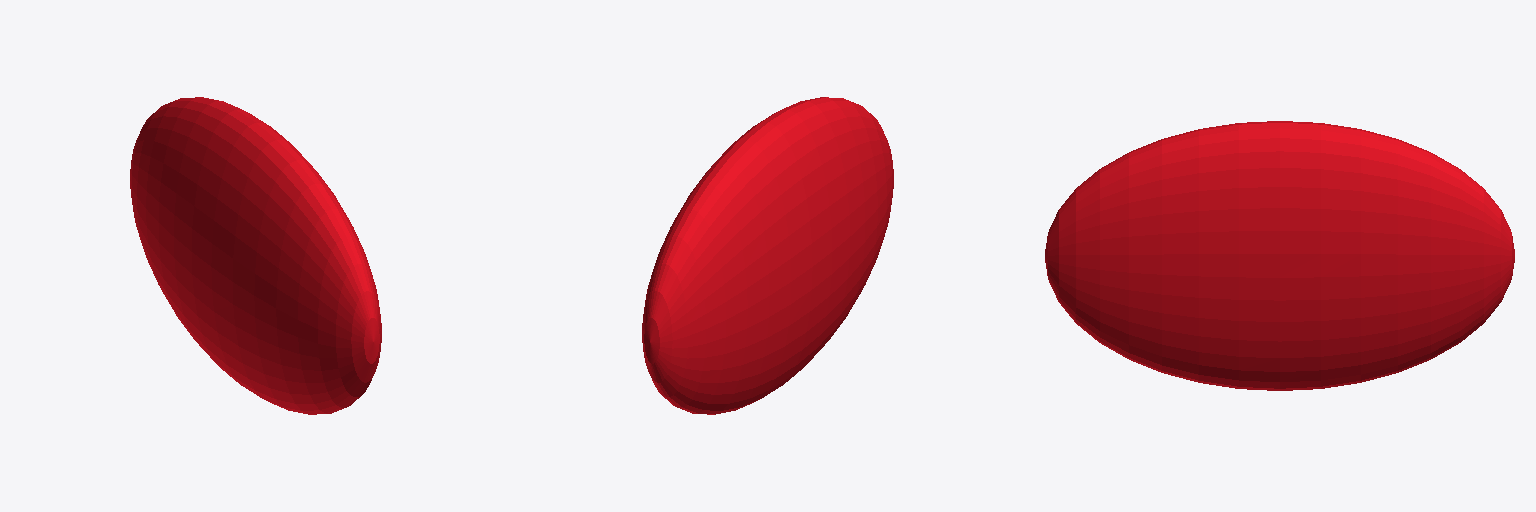
Rendered from tinker 1.obj.
The picture shows the model from 3 angles: view 1: azimuth 30°, elevation 25°; view 2: azimuth 150°, elevation 25°; view 3: azimuth 270°, elevation 25°; orthographic projection.
Parts seen in each view (by area): view 1: obj_0; view 2: obj_0; view 3: obj_0.
Part boxes in pixels (x1,y1,x2,y2): obj_0: (130,97,381,414); obj_0: (642,97,893,414); obj_0: (1045,121,1514,390).
Bounding box in the file's own units: 7 × 20 × 32.